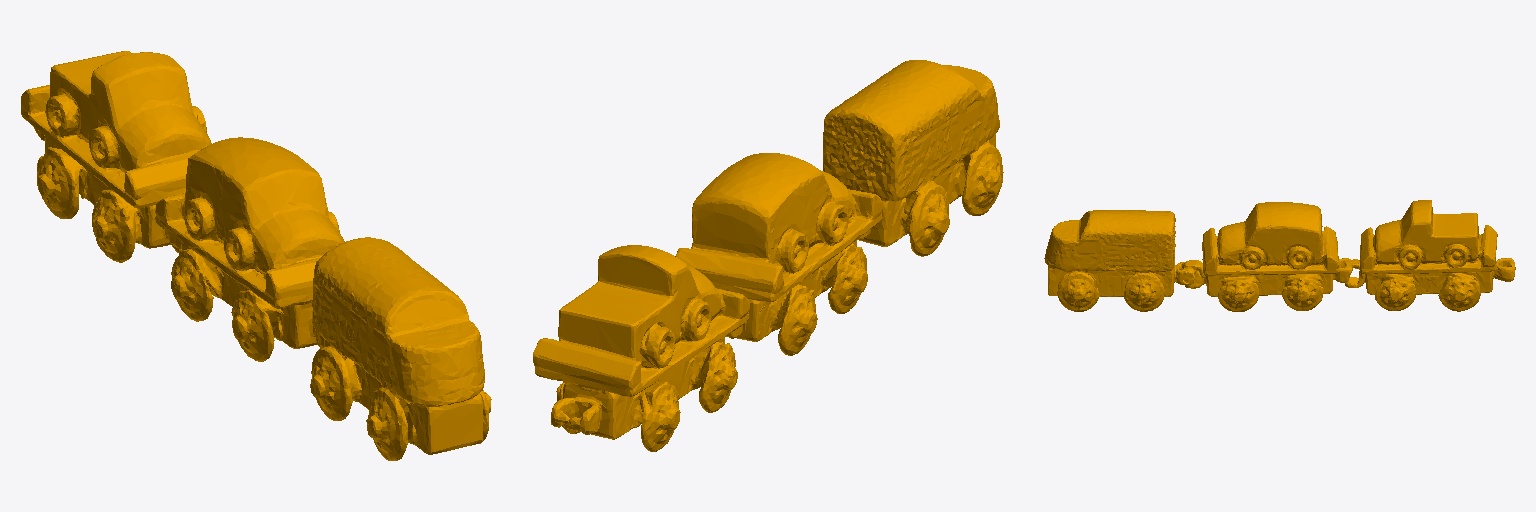
The robot description file, URDF, robot "CAR_CARRIER_TRAIN":
<?xml version="1.0" ?>
<robot name="CAR_CARRIER_TRAIN">
  <link name="link_0">
    <inertial>
      <origin xyz="0 0 0" rpy="0 0 0"/>
      <mass value="1.0"/>
      <inertia ixx="0.1" ixy="0.0" ixz="0.0" iyy="0.1" iyz="0.0" izz="0.1"/>
    </inertial>
    <visual name="visual">
      <origin xyz="0 0 0" rpy="0 0 0"/>
      <geometry>
        <mesh filename="meshes/model.obj"/>
      </geometry>
    </visual>
    <collision name="collision_0">
      <origin xyz="0 0 0" rpy="0 0 0"/>
      <geometry>
        <mesh filename="meshes/model.obj"/>
      </geometry>
    </collision>
  </link>
</robot>

--- Render facts (derived) ---
3 views of the same robot in one strip: view 1: azimuth 30°, elevation 25°; view 2: azimuth 150°, elevation 25°; view 3: azimuth 270°, elevation 25° (orthographic).
Robot: CAR_CARRIER_TRAIN — 1 links, 0 joints (none); root link link_0; default pose: every joint at zero.
Links seen in each view (by area): view 1: link_0; view 2: link_0; view 3: link_0.
Boxes of the visible links, left/top/right/bottom form: link_0: left=21, top=51, right=491, bottom=460; link_0: left=533, top=60, right=1003, bottom=451; link_0: left=1044, top=200, right=1515, bottom=311.
Size in the robot's own frame: 0.038 by 0.223 by 0.0511 metres.
Meshes: 1 distinct files referenced, 1 mesh visuals loaded (1 OBJ).